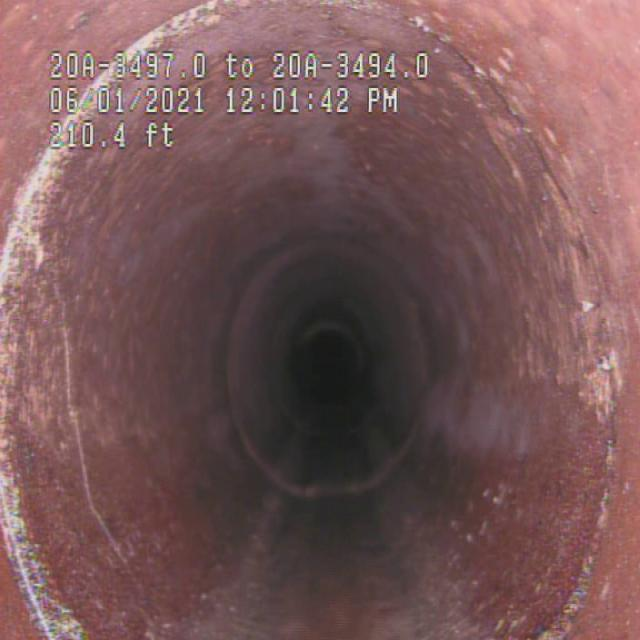Crack: (42, 260, 105, 585)
